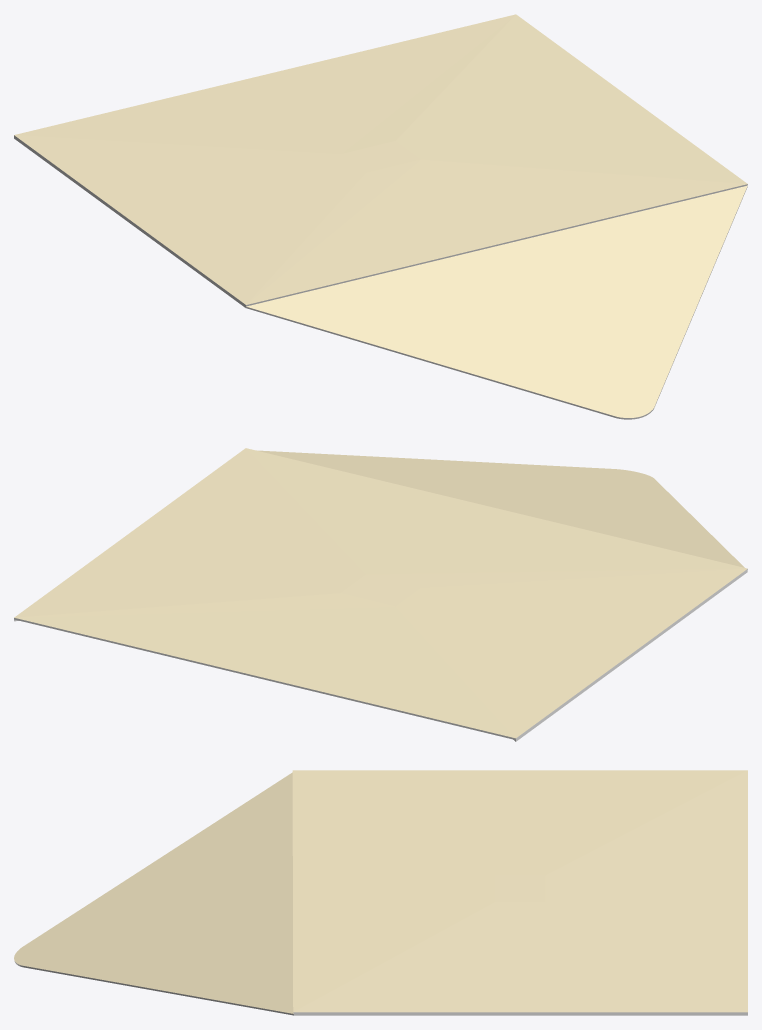
3 views of the same model, one above another, from view 1: azimuth 30°, elevation 25°; view 2: azimuth 150°, elevation 25°; view 3: azimuth 270°, elevation 25° (orthographic).
Parts seen in each view (by area): view 1: opened envelope; view 2: opened envelope; view 3: opened envelope.
Part boxes in pixels (left/top/right/bottom): opened envelope: left=14, top=14, right=747, bottom=419; opened envelope: left=14, top=448, right=747, bottom=741; opened envelope: left=14, top=770, right=747, bottom=1015.
Size of the model in its own units: 591 by 81.65 by 762.
